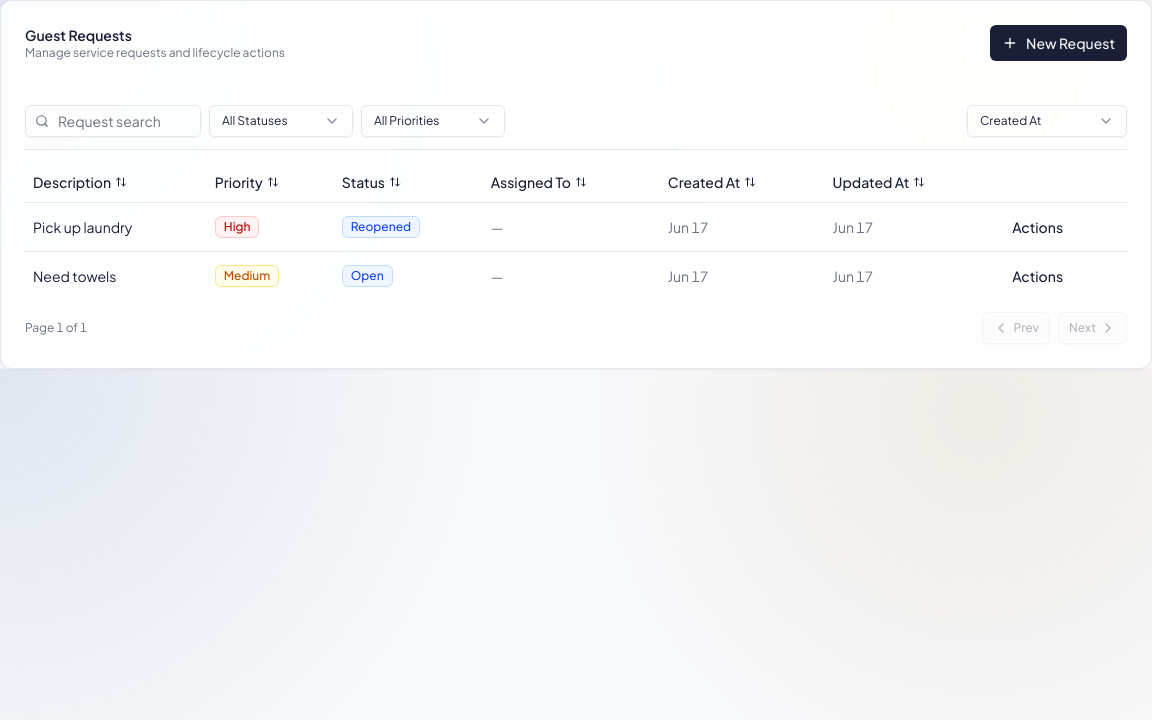
Test: GuestRequestsTab › filters requests by search text
Check: the text "Need towels" is shown, box [33,266,116,284]
Check: the text "Pick up laundry" is shown, box [33,218,132,236]
Type "laundry" into the field with placeholder "Request search" at (113, 121), box [25,105,201,137]
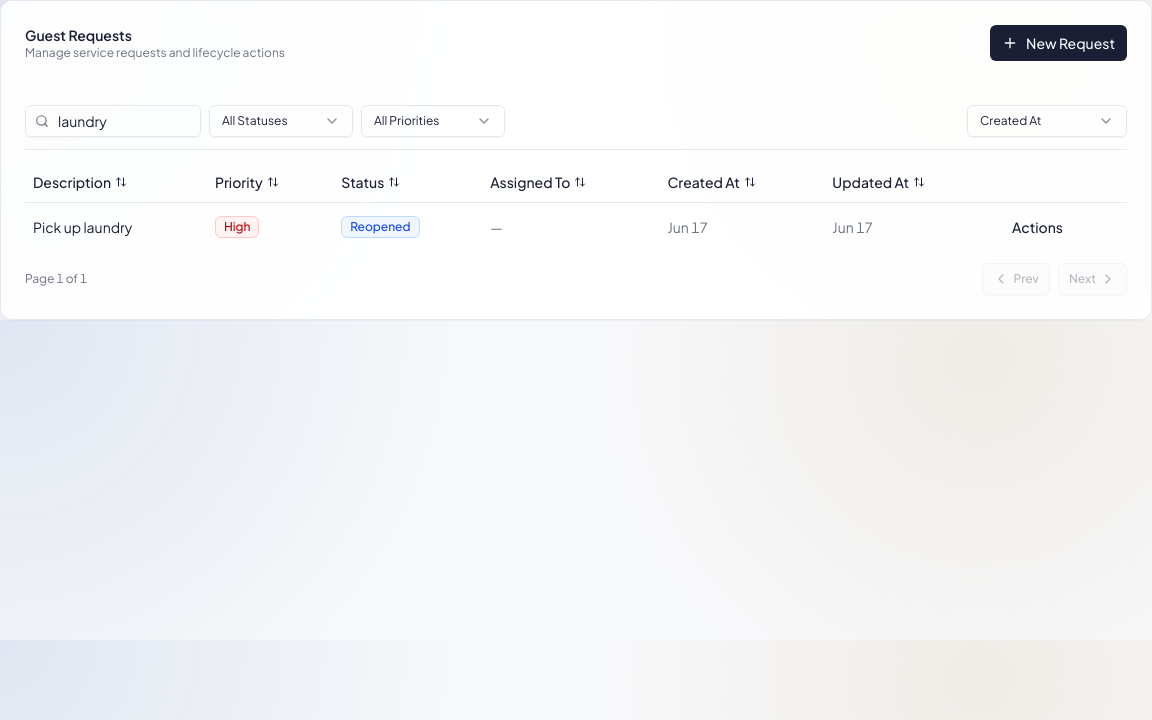
Check: the text "Pick up laundry" is shown, box [33,218,132,236]
Check: the text "Need towels" is gone
